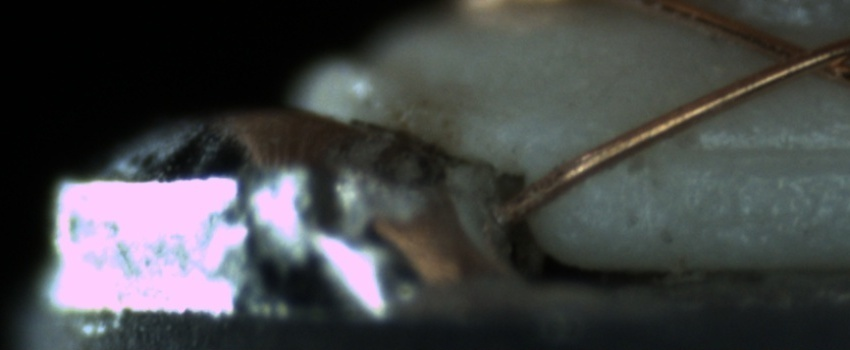CL: (749, 27, 848, 88)
DL: (667, 117, 850, 184)
